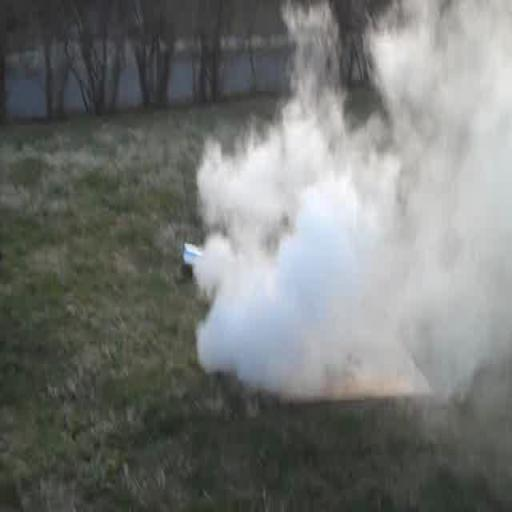smoke: (193, 2, 507, 394), (198, 118, 512, 393)
